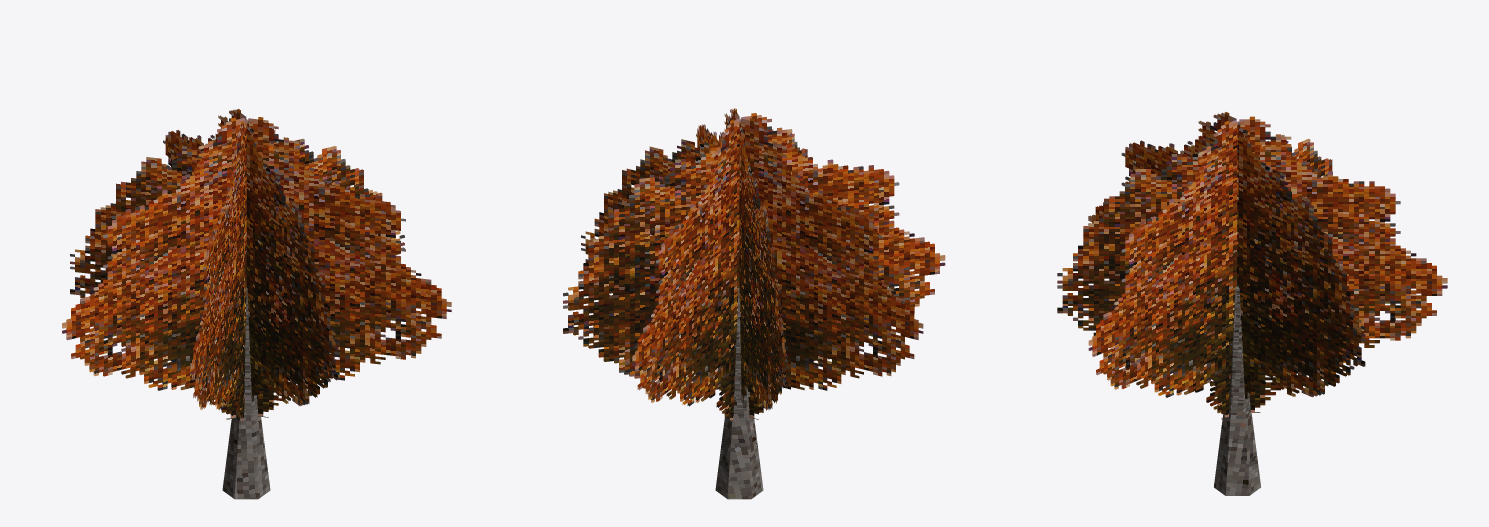
The model's file is tree34.glb.
The picture shows the model from 3 angles, left to right: view 1: azimuth 30°, elevation 25°; view 2: azimuth 150°, elevation 25°; view 3: azimuth 270°, elevation 25°; orthographic projection.
Parts seen in each view (by area): view 1: tree34; view 2: tree34; view 3: tree34.
Part boxes in pixels (x1,y1,x2,y2): tree34: (62,109,451,499); tree34: (563,108,945,499); tree34: (1057,112,1447,495).
Bounding box in the file's own units: 9.22 × 8 × 9.22.
Materials: 1 (1 with a texture image).
